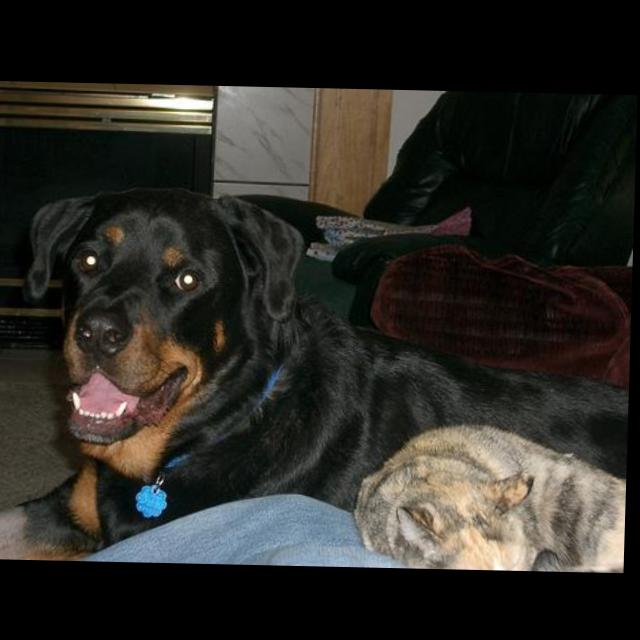rottweiler: (1, 184, 637, 572)
